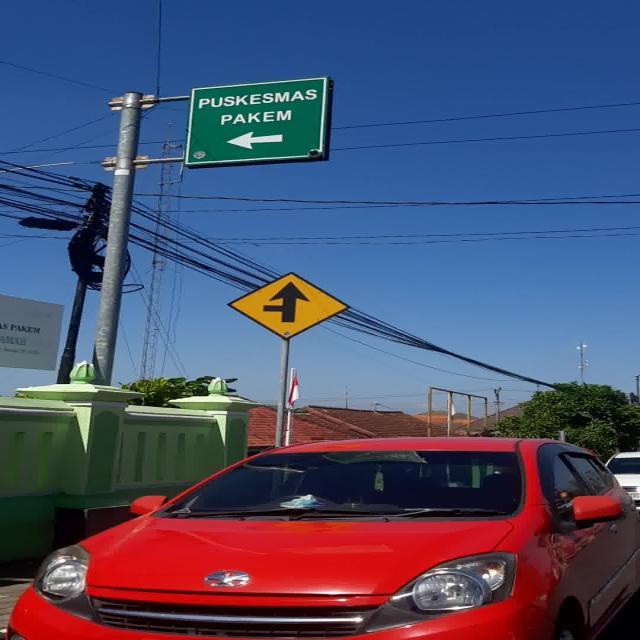Persimpangan 3 Prioritas Kiri: (228, 272, 350, 340)
